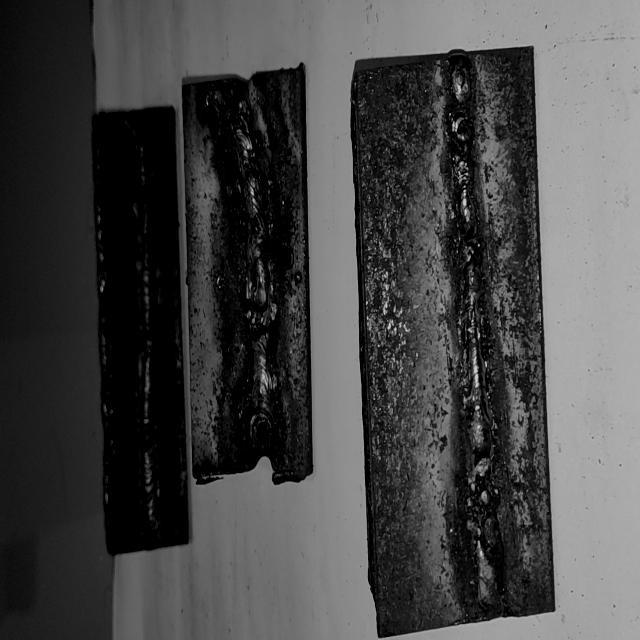Defect: (438, 58, 506, 590), (232, 276, 283, 350), (207, 84, 269, 144)
Welding Line: (447, 61, 502, 606), (240, 106, 276, 454), (134, 137, 161, 532)
Workpiece: (350, 47, 556, 630), (186, 74, 312, 477), (94, 100, 188, 546)
